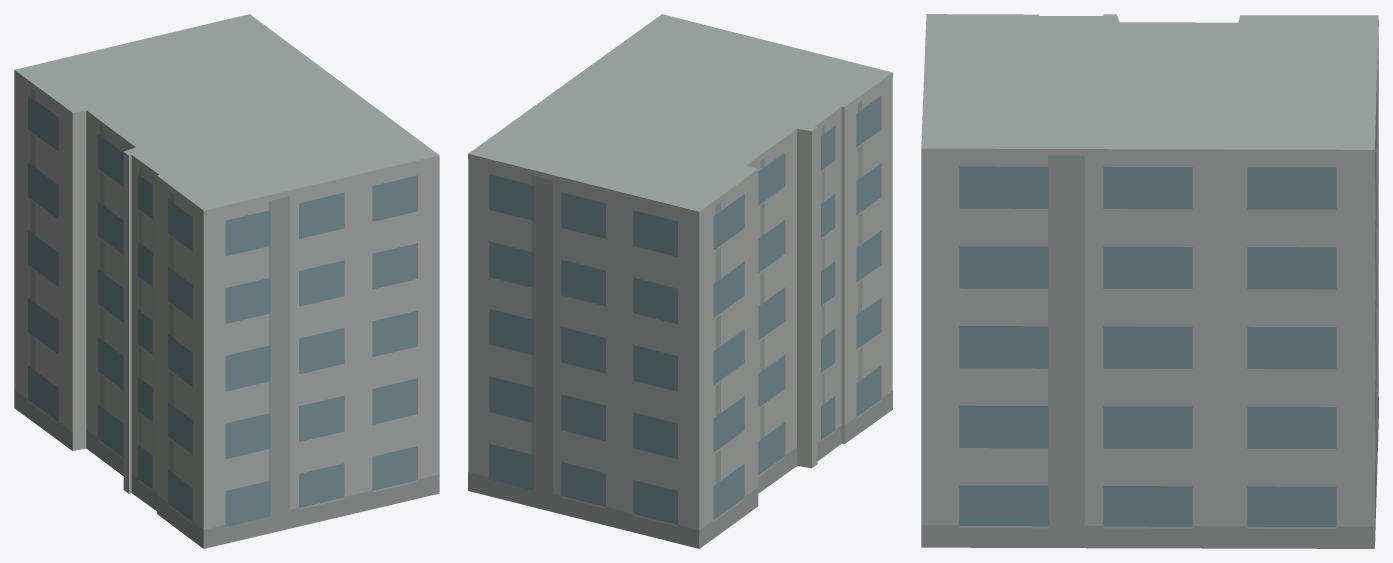
File: survey-upis-32835656.glb
3 renders of one model, left to right at view 1: azimuth 30°, elevation 25°; view 2: azimuth 150°, elevation 25°; view 3: azimuth 270°, elevation 25°, orthographic. The views are drawn at different scales.
Visible parts, largest first — view 1: survey-upis-32835656.tmp; view 2: survey-upis-32835656.tmp; view 3: survey-upis-32835656.tmp.
Part boxes in pixels (x1,y1,x2,y2): survey-upis-32835656.tmp: (14,14,439,548); survey-upis-32835656.tmp: (468,14,892,548); survey-upis-32835656.tmp: (921,14,1378,548).
Size of the model in its own units: 10.6 by 14.5 by 15.08.
